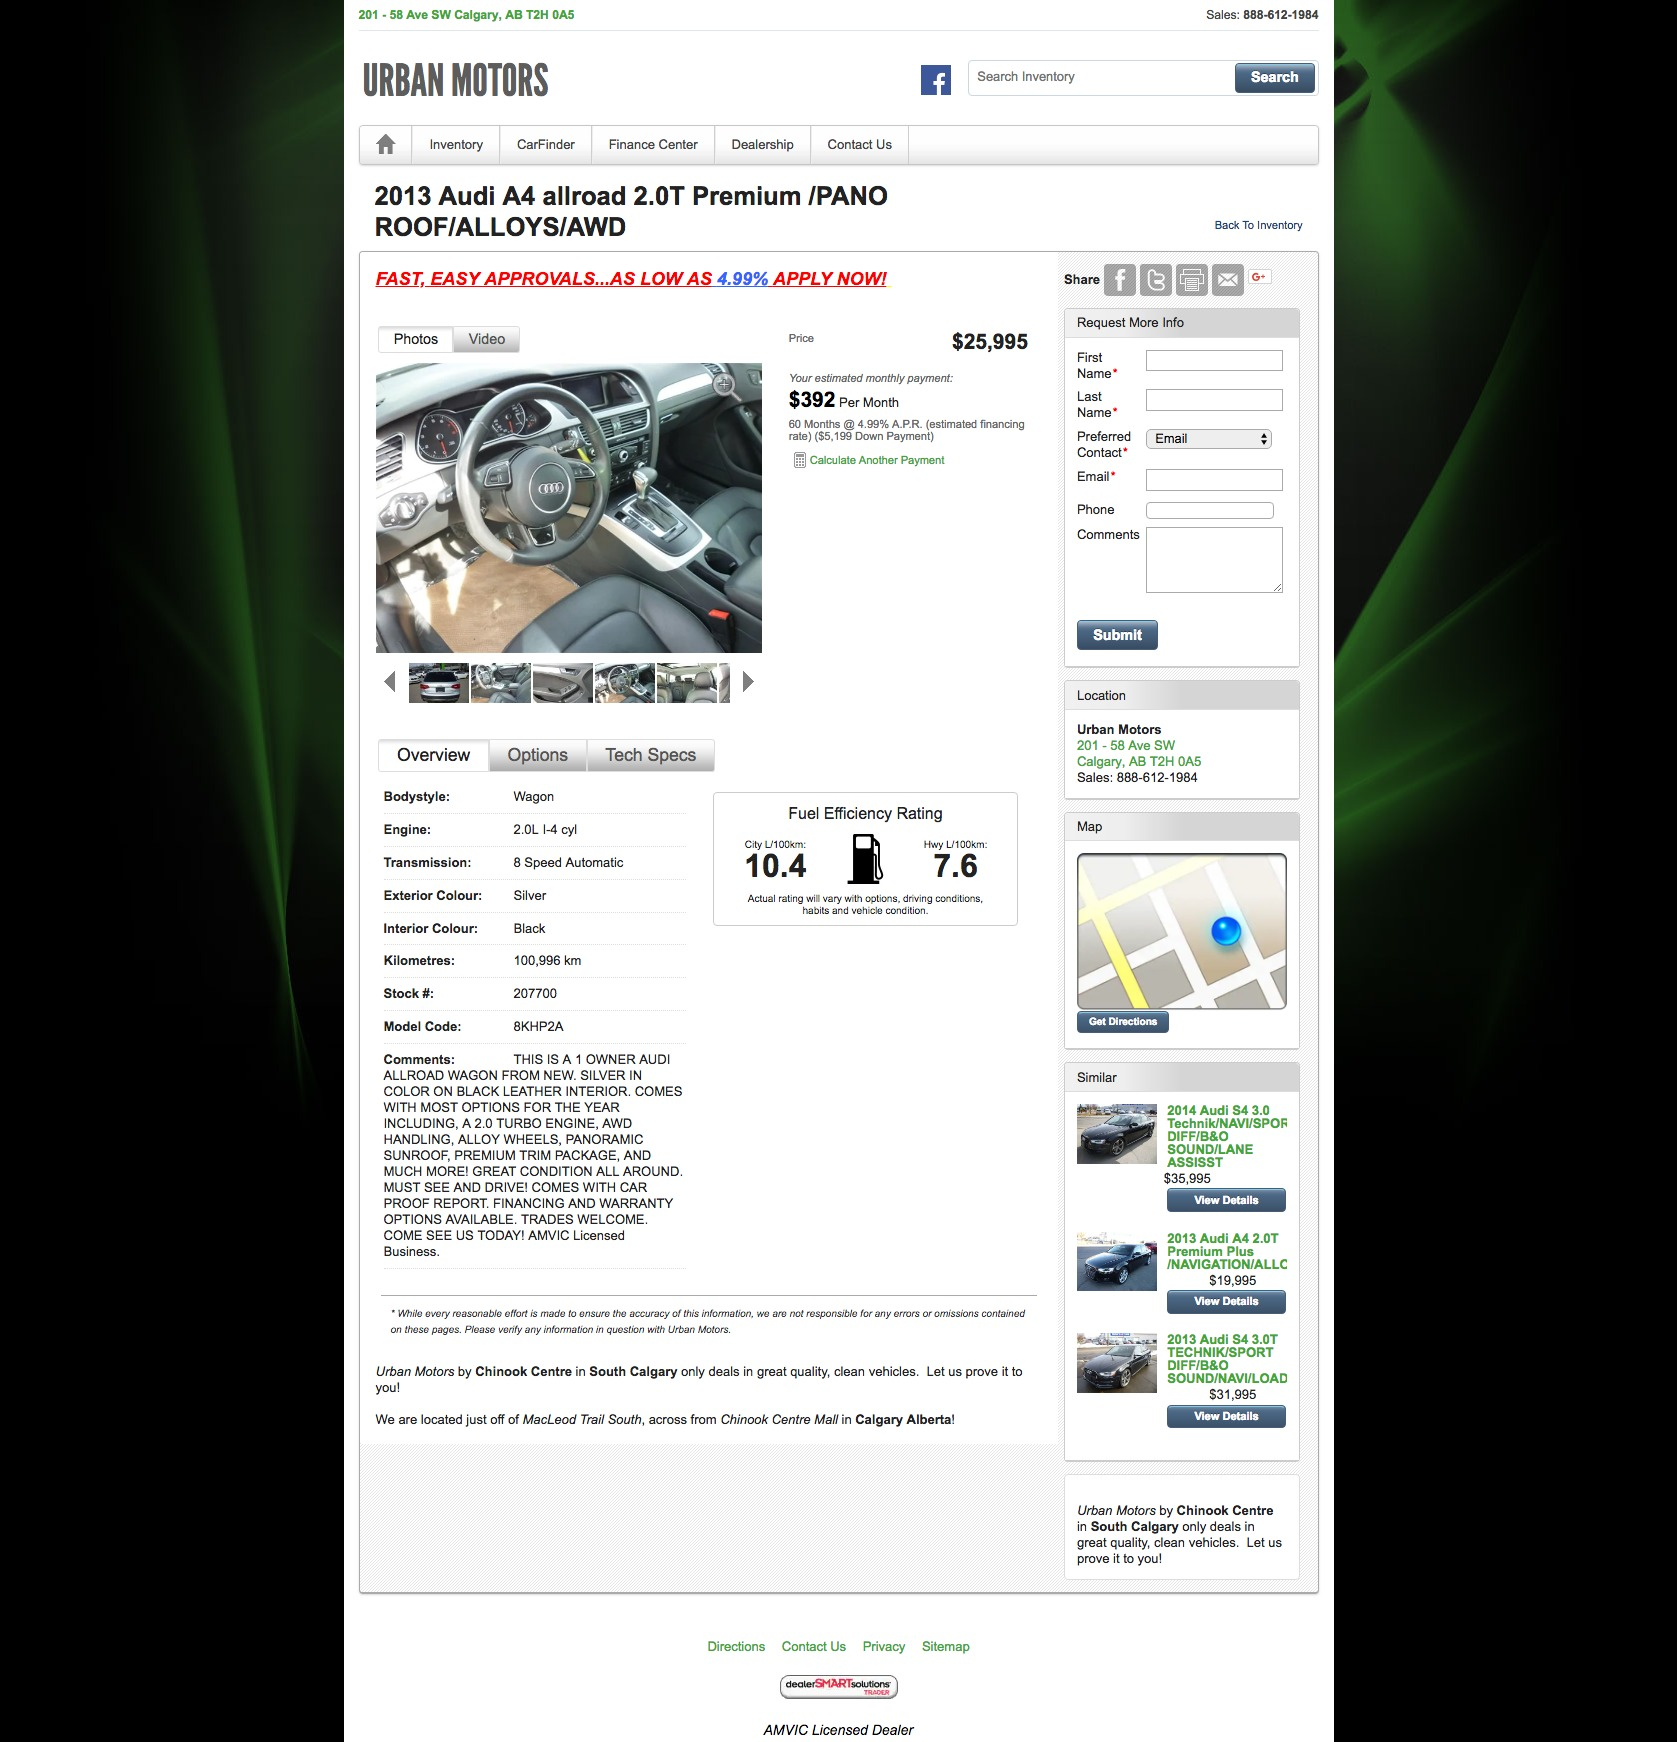car: (744, 670, 754, 694)
